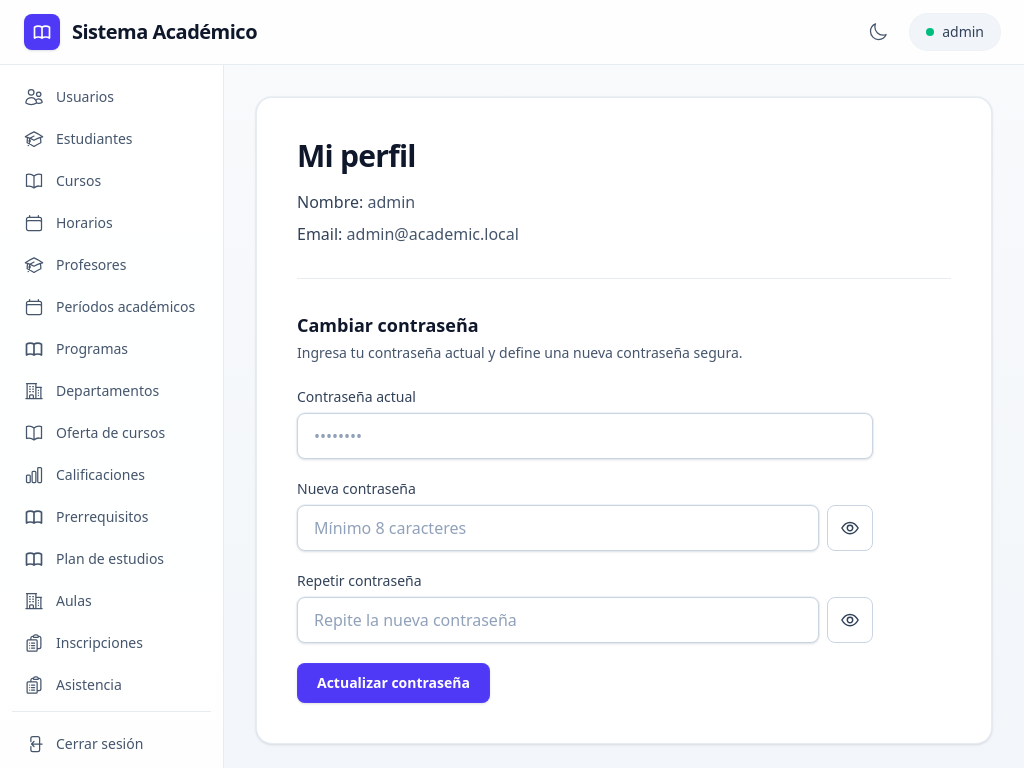
Test case: MiPerfilPage › valida que la confirmación coincida antes de enviar
Step 1. Type "Actual123!" into the password field labelled "Contraseña actual" → (585, 436), box [297,413,873,459]
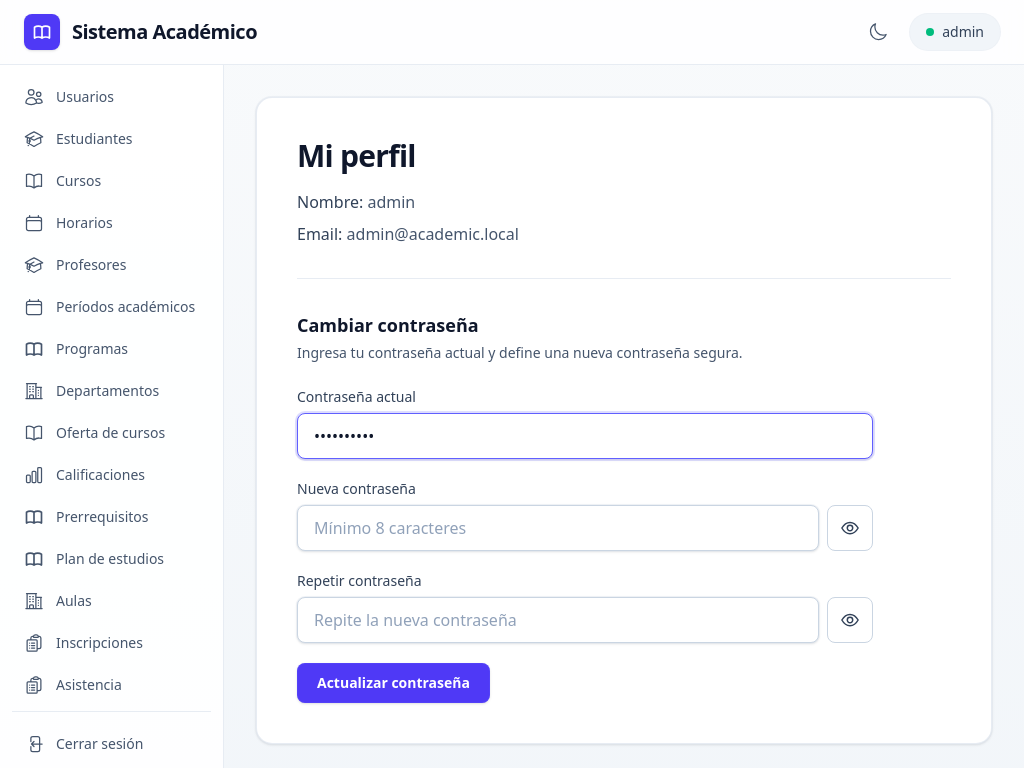
Step 2. Type "Nueva123!" into the password field labelled "Nueva contraseña" → (558, 528), box [297,505,819,551]
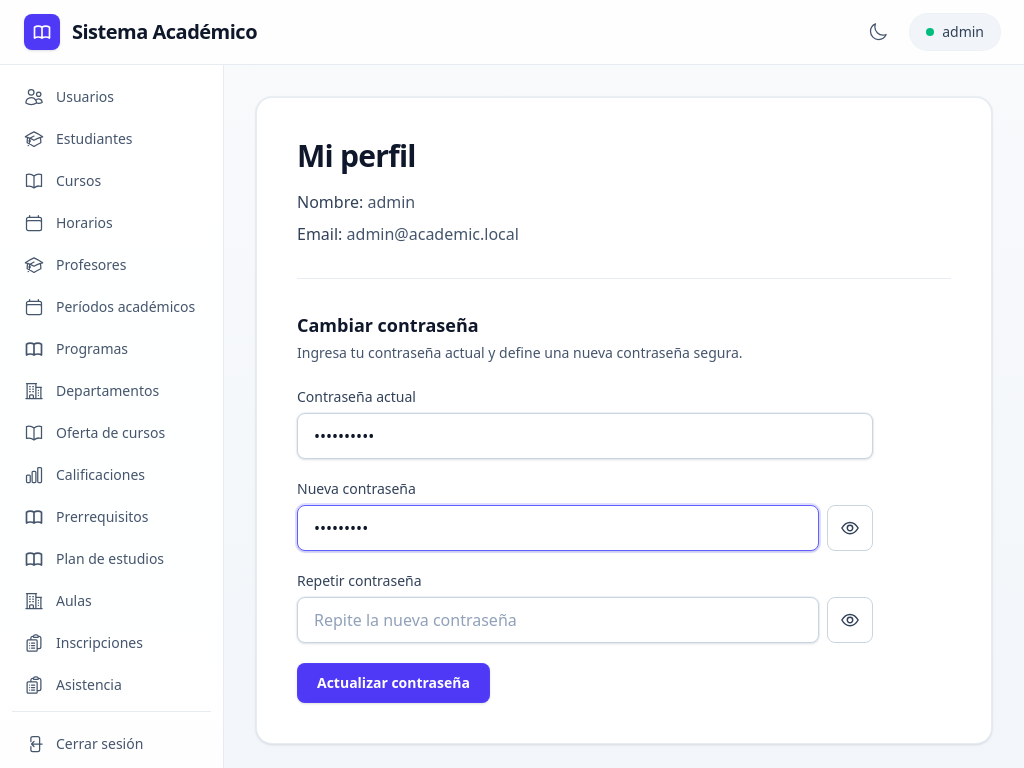
Step 3. Type "Otra123!" into the password field labelled "Repetir contraseña" → (558, 620), box [297,597,819,643]
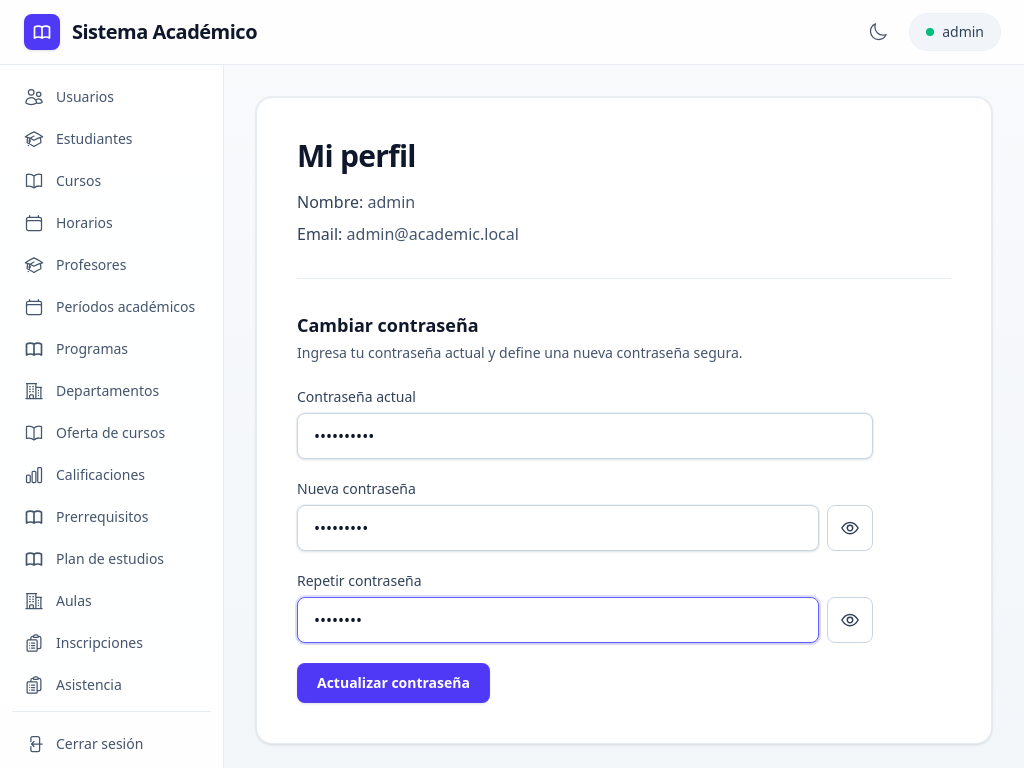
Step 4. Click the button "Actualizar contraseña" → click(394, 683), box [297,663,490,703]
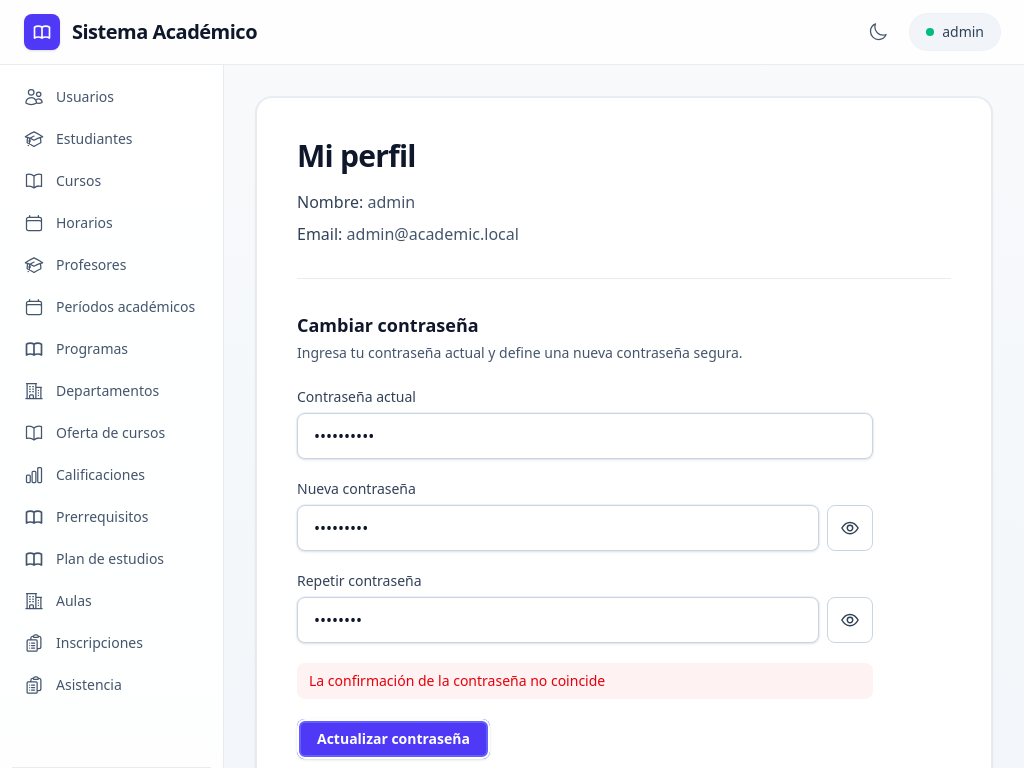
expect the text "La confirmación de la contraseña no coincide" is shown: met, box [297,663,873,699]
